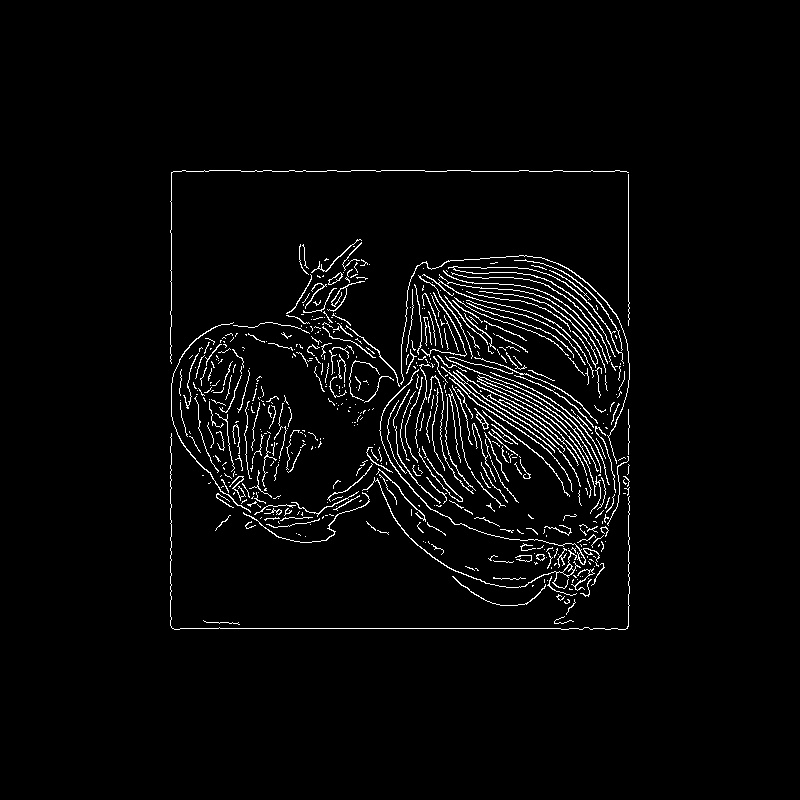red_onion: (172, 210, 396, 567), (381, 335, 631, 650), (403, 239, 626, 441)
